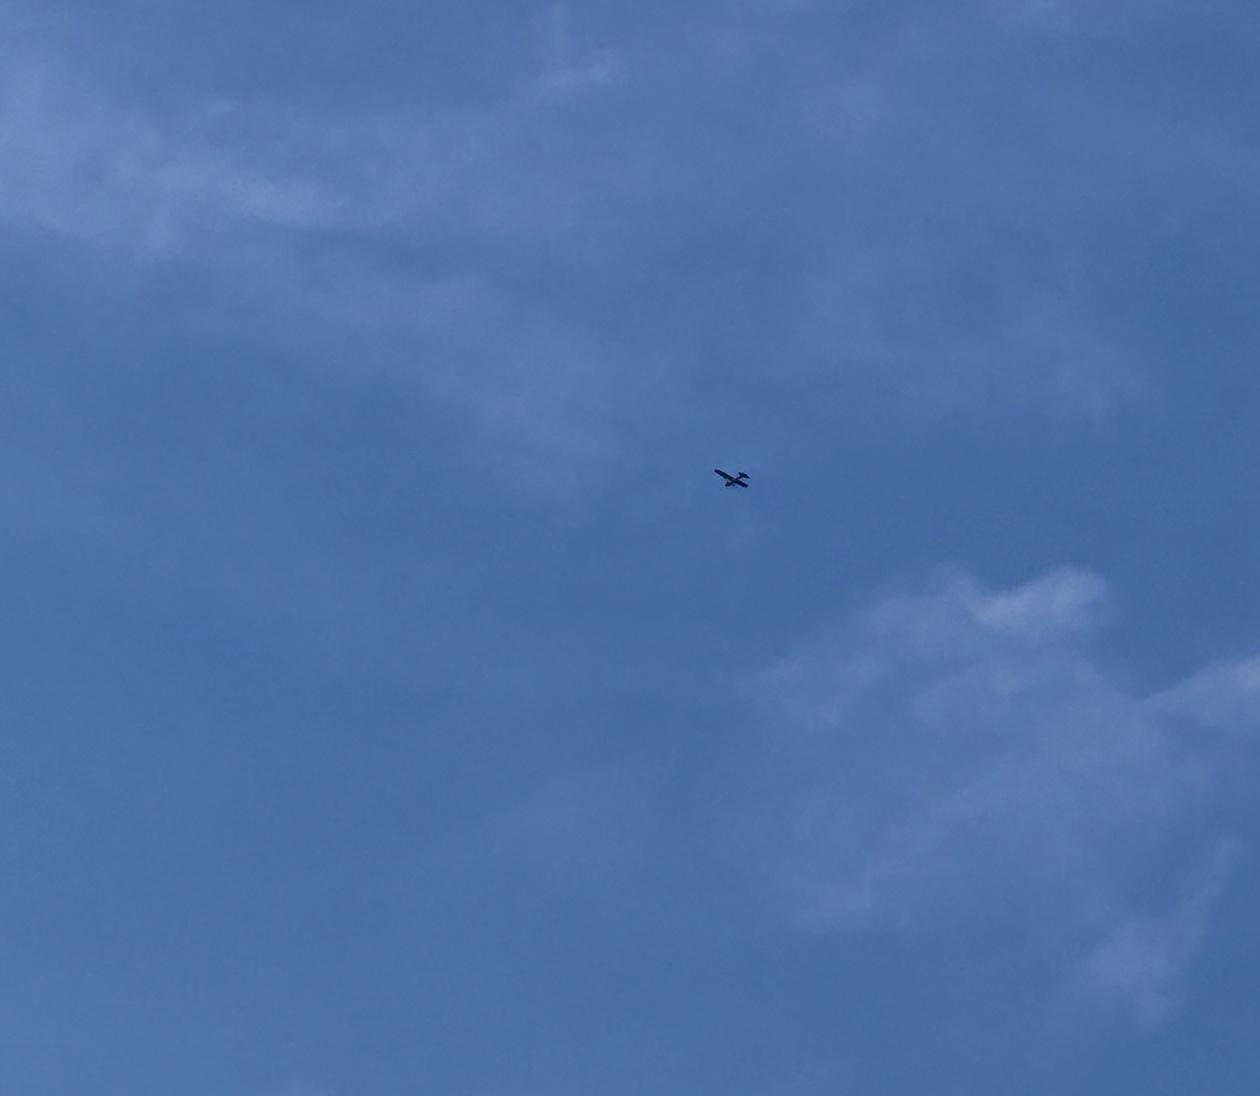Plane: (692, 450, 774, 505)
